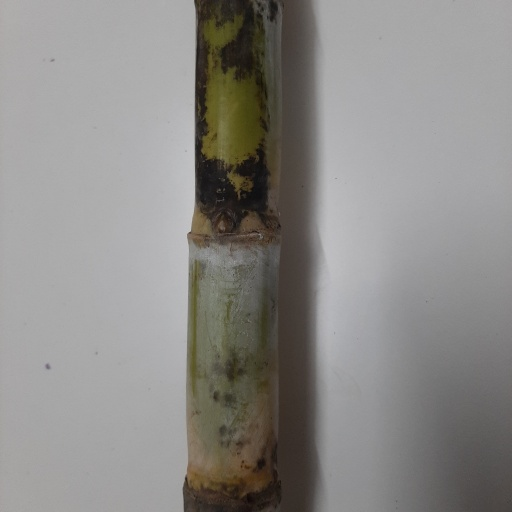Bud: (212, 212, 236, 238)
